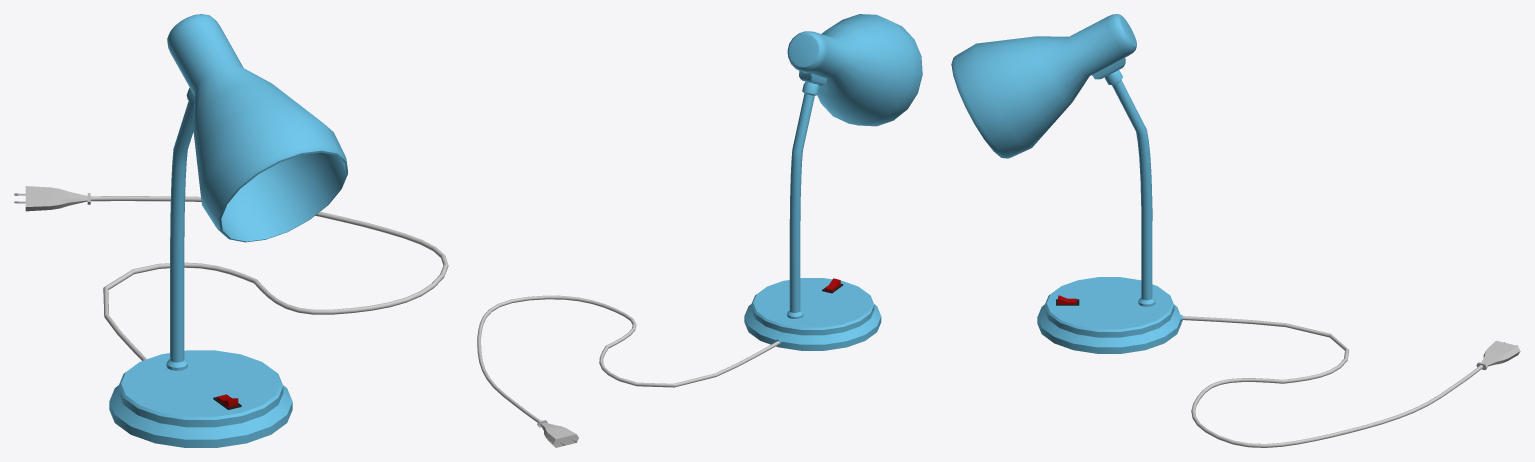
The model's file is Lamp 1.FBX.
The picture shows the model from 3 angles, left to right: view 1: azimuth 30°, elevation 25°; view 2: azimuth 150°, elevation 25°; view 3: azimuth 270°, elevation 25°; orthographic projection. The views are drawn at different scales.
Parts seen in each view (by area): view 1: Lamp, wire lamp; view 2: Lamp, wire lamp; view 3: Lamp, wire lamp.
Part boxes in pixels (x1=…): Lamp: x1=109, y1=14, x2=347, y2=447; wire lamp: x1=14, y1=186, x2=448, y2=360; Lamp: x1=744, y1=14, x2=922, y2=350; wire lamp: x1=477, y1=295, x2=779, y2=447; Lamp: x1=951, y1=14, x2=1182, y2=353; wire lamp: x1=1182, y1=316, x2=1520, y2=447.
Bounding box in the file's own units: 44.03 × 39.87 × 66.82.
